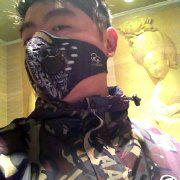OK: (16, 17, 108, 109)
